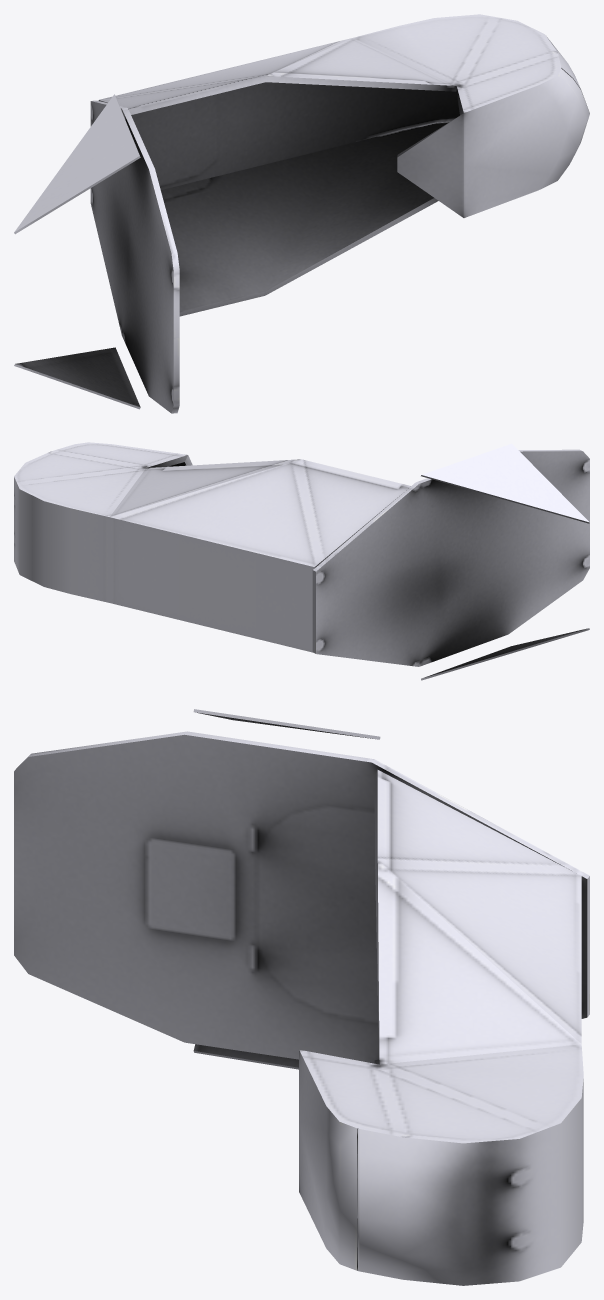
File: Body.obj
The picture shows the model from 3 angles, top to bottom: view 1: azimuth 30°, elevation 25°; view 2: azimuth 150°, elevation 25°; view 3: azimuth 270°, elevation 25°; orthographic projection. The views are drawn at different scales.
Parts seen in each view (by area): view 1: Plane001; view 2: Plane001; view 3: Plane001.
Part boxes in pixels (x1,y1,x2,y2): Plane001: (14, 14, 589, 413); Plane001: (14, 442, 589, 680); Plane001: (14, 709, 589, 1285).
Size of the model in its own units: 1.87 by 0.7266 by 1.1.
1 material, 1 textured.
